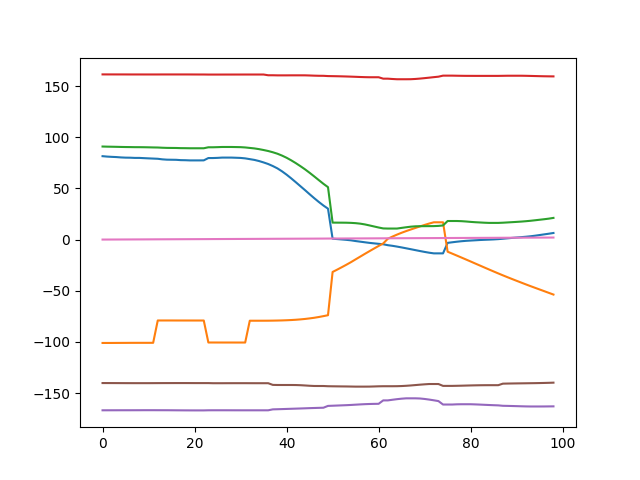Too_Fast_Down: (3, 1, 640, 480)
